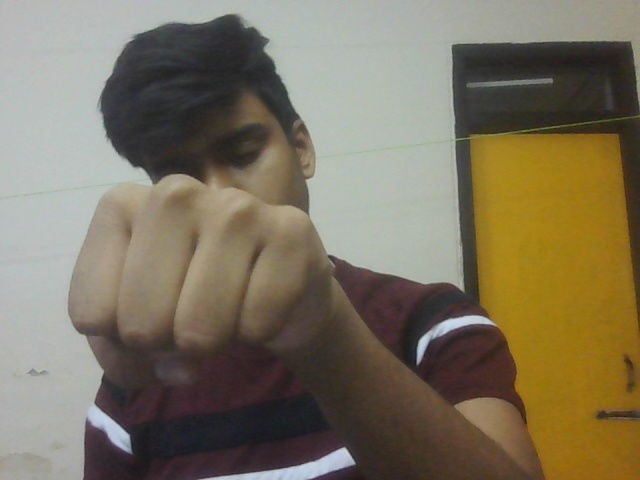yes: (51, 158, 399, 387)
